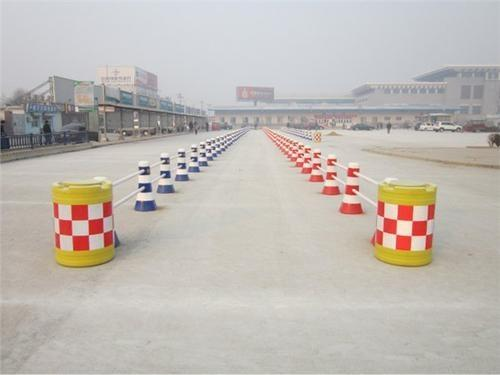cone_barrel: (48, 179, 115, 265), (375, 182, 437, 264)
